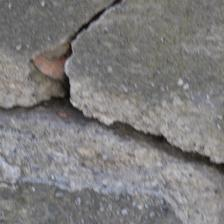Crack: (5, 12, 117, 57), (27, 54, 89, 119), (139, 50, 166, 128)
